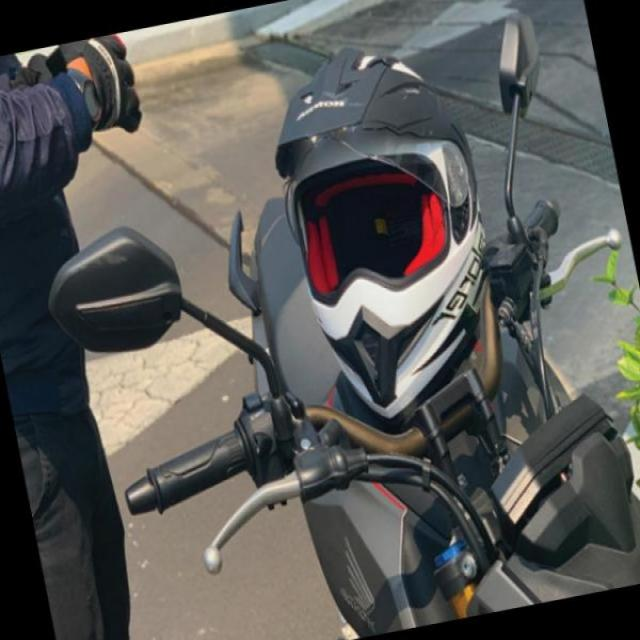Helmet: (237, 62, 496, 427)
